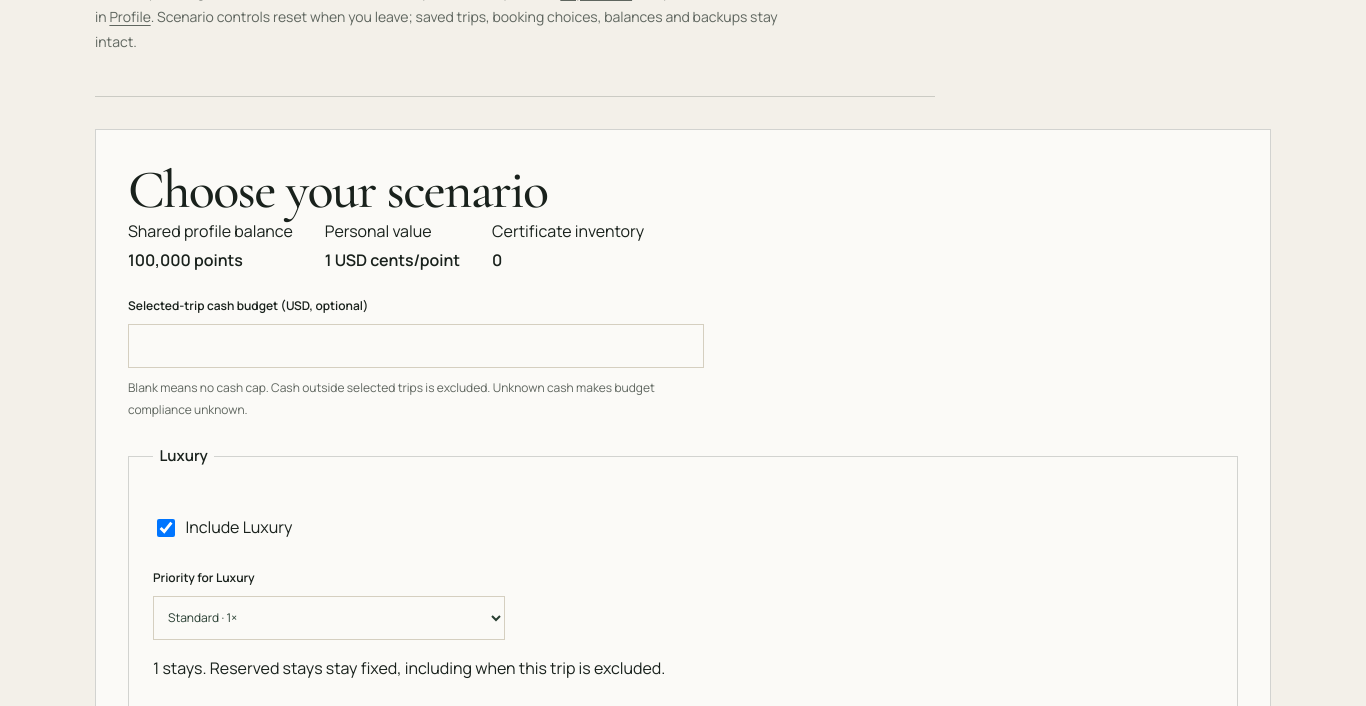
Test: Read-only portfolio scenario flows › keeps unknown costs and invalid drafts visible, and recovers after correcting the budget
(page scrolled)
In the number field labelled "Selected-trip cash budget (USD, optional)": (416, 346) [128,324,704,368], type "-1"
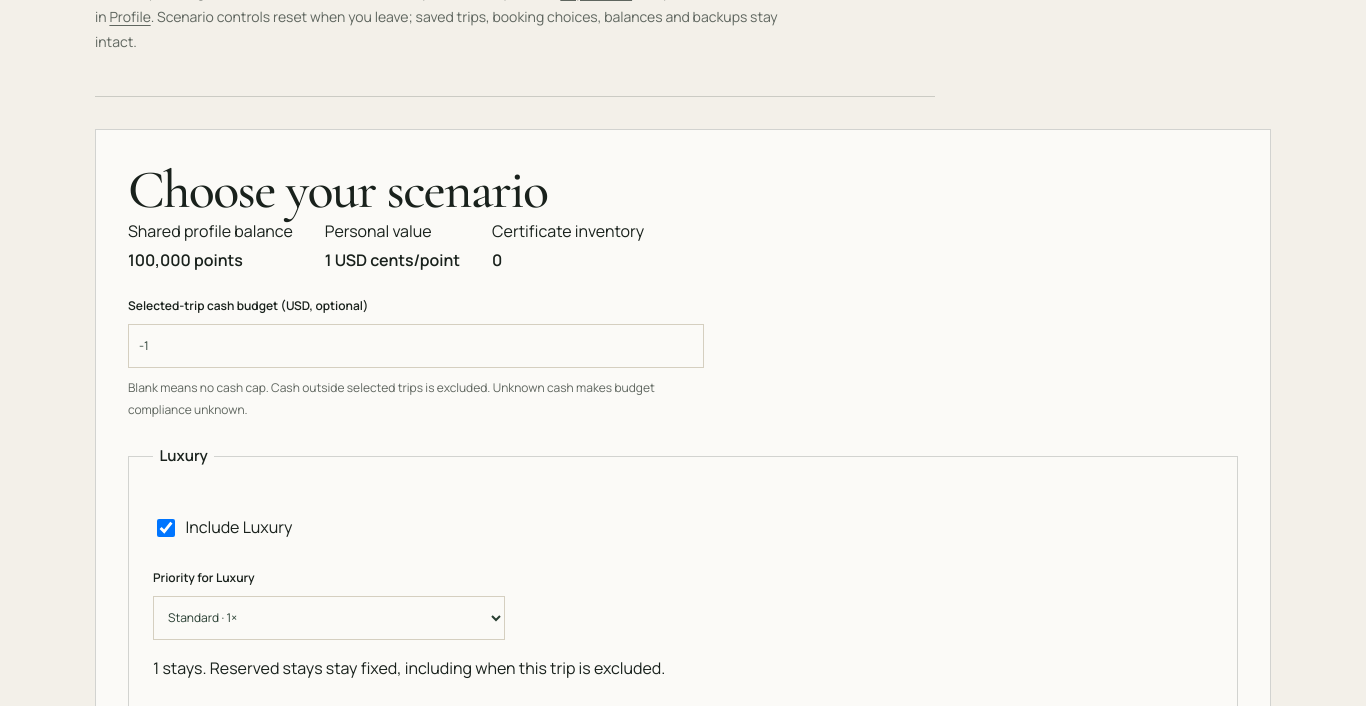
Clear the number field labelled "Selected-trip cash budget (USD, optional)": (416, 346) [128,324,704,368]
(page scrolled)
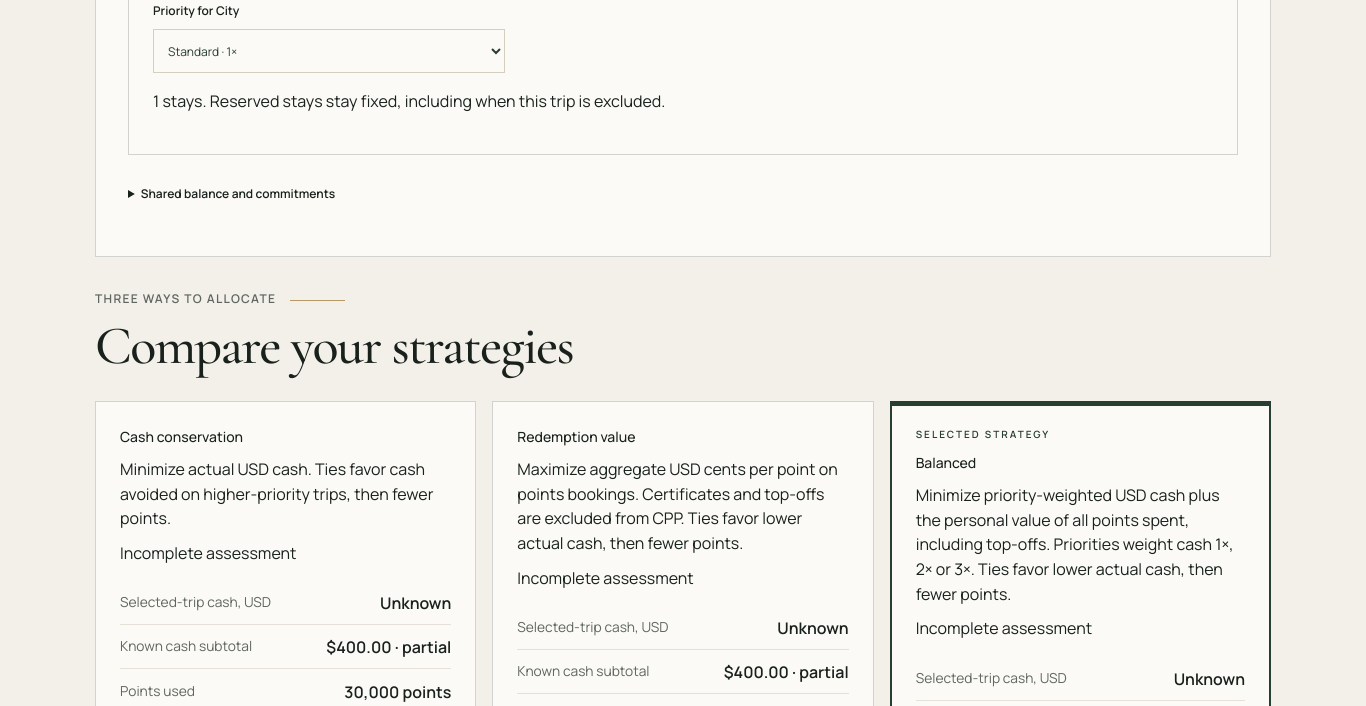
Check: the heading "Compare your strategies" is shown, box [95,318,573,375]
